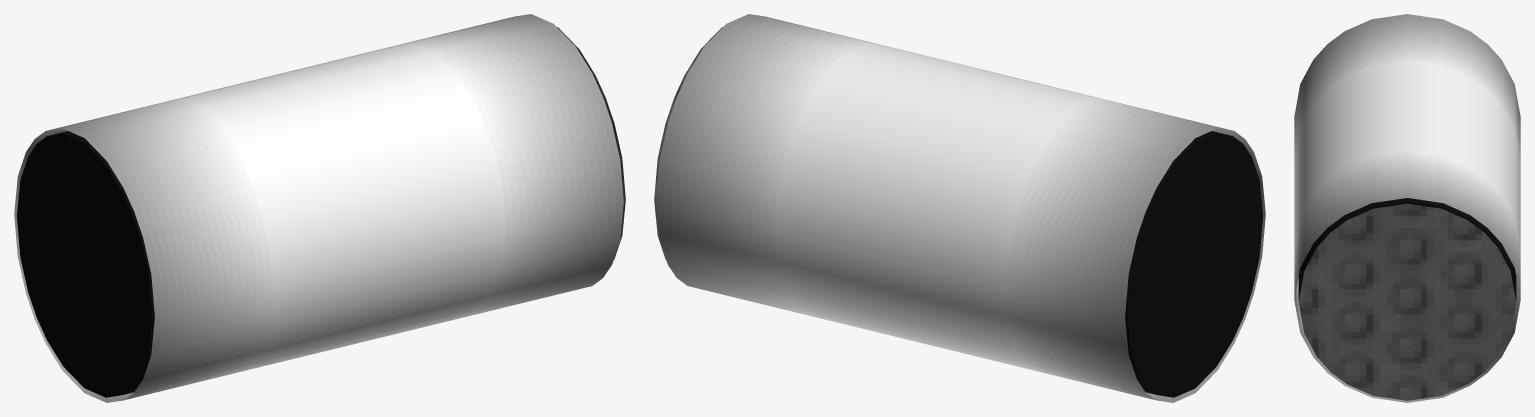
Rendered from battery.obj.
3 renders of one model, left to right at view 1: azimuth 30°, elevation 25°; view 2: azimuth 150°, elevation 25°; view 3: azimuth 270°, elevation 25°, orthographic. The views are drawn at different scales.
Visible parts, largest first — view 1: Battery5, Battery2, Battery1, Battery4, Battery3, Battery6; view 2: Battery3, Battery2, Battery1, Battery4, Battery5, Battery6; view 3: Battery6, Battery2, Battery3, Battery5, Battery1, Battery4.
Boxes of the visible parts, box(x1,y1,x2,y2) form: Battery5: box(134, 97, 623, 392); Battery2: box(35, 14, 602, 211); Battery1: box(17, 131, 154, 397); Battery4: box(35, 278, 602, 402); Battery3: box(14, 131, 67, 319); Battery6: box(557, 27, 625, 260); Battery3: box(656, 97, 1145, 391); Battery2: box(677, 14, 1244, 211); Battery1: box(1125, 131, 1262, 397); Battery4: box(677, 278, 1244, 402); Battery5: box(1233, 136, 1265, 319); Battery6: box(654, 27, 722, 260); Battery6: box(1298, 203, 1516, 400); Battery2: box(1327, 14, 1487, 227); Battery3: box(1487, 44, 1520, 372); Battery5: box(1294, 44, 1327, 372); Battery1: box(1298, 198, 1516, 300); Battery4: box(1327, 369, 1487, 402).
Size of the model in its own units: 2.02 by 1.04 by 1.04.
Materials: 3 (2 with a texture image).
